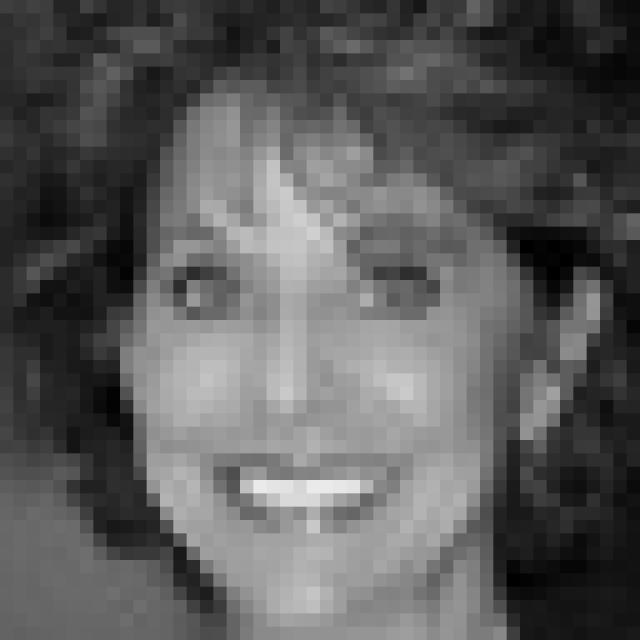happy: (149, 206, 480, 553)
